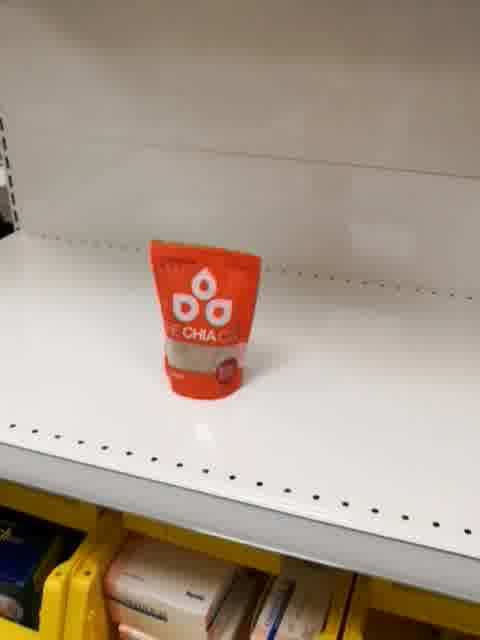whitechia: (147, 239, 261, 403)
